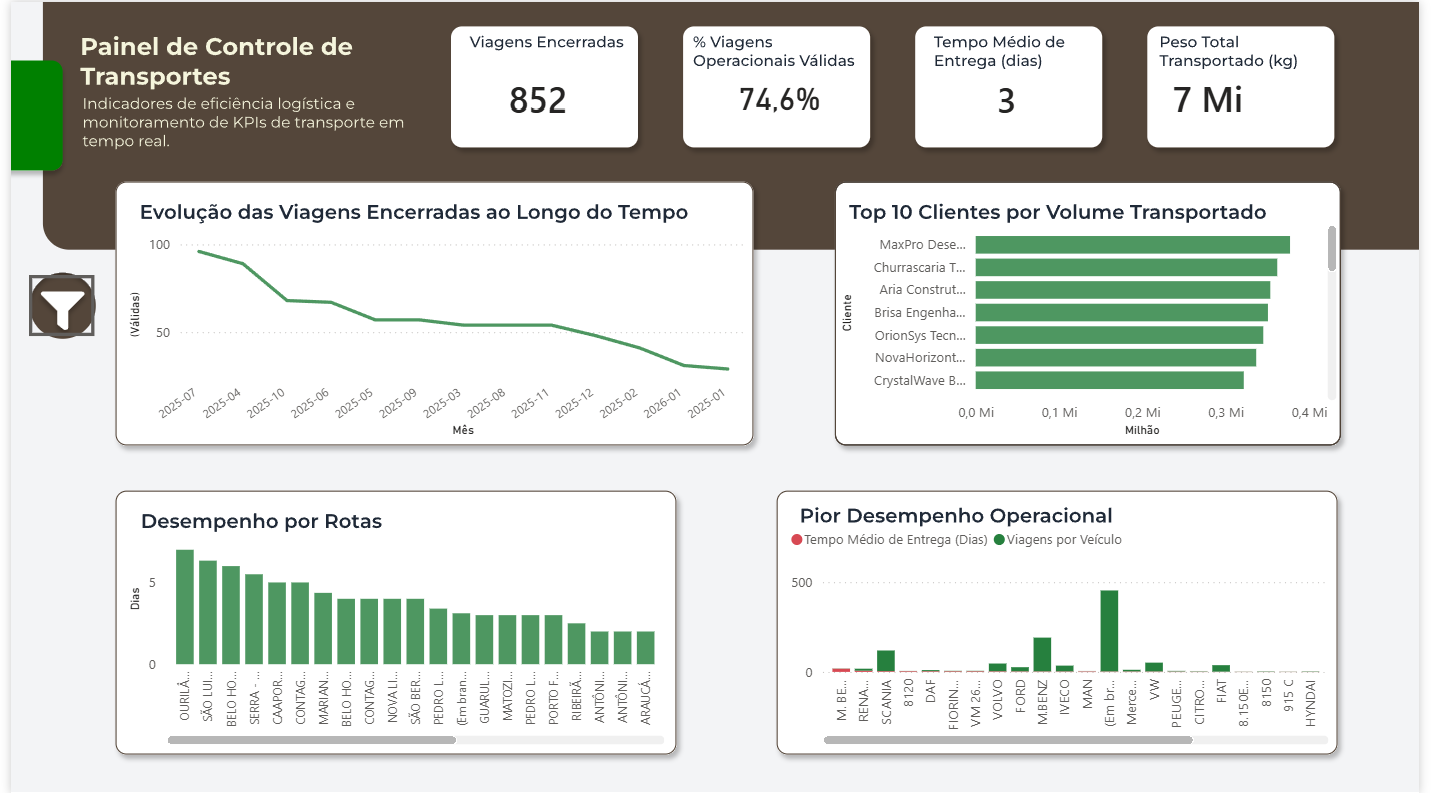

Layout of this report page (visuals, bound fields, positions):
{"tool":"powerbi","page":{"name":"Dashaboard","canvas":[1280,720],"ordinal":1},"visuals":[{"type":"actionButton","box":[16.5,248,59.5,55.5],"z":1000},{"type":"cardVisual","fields":{"Data":["fViagens.Viagens Encerradas"]},"box":[423.8,45,112.5,81.2],"z":2000},{"type":"card","fields":{"Values":["fViagens.Viagens Válidas"]},"box":[618.8,51.2,158.8,70],"z":3000},{"type":"cardVisual","fields":{"Data":["fViagens.Tempo Médio de Entrega (Dias)"]},"box":[867.5,40,103.8,92.5],"z":4000},{"type":"cardVisual","fields":{"Data":["fViagens.Peso Total Transportado"]},"box":[1027.5,33.8,175,103.8],"z":5000},{"type":"lineChart","fields":{"Category":["fViagens.Ano_Mes"],"Y":["fViagens.Viagens Encerradas (Válidas)"]},"box":[102.7,206.4,570,193.6],"z":6000},{"type":"barChart","fields":{"Category":["dCliente.razao_social"],"Y":["fViagens.Peso Total Transportado"]},"box":[750,190,460,210],"z":7000},{"type":"columnChart","fields":{"Category":["dRotas.linha"],"Y":["fViagens.Tempo Médio de Entrega (Dias)"]},"box":[102.7,469.1,496.4,210.9],"z":8000},{"type":"columnChart","fields":{"Y":["fViagens.Tempo Médio de Entrega (Dias)","fViagens.Viagens por Veículo"],"Category":["dVeiculos.marca"]},"box":[703.6,469.1,499.1,210.9],"z":9000}]}

Visuals, with their boxes in screenshot pixels (x1, y1, x2, y2), scaled from the page's 1280x720 canvas onto the 1438x793 screenshot:
actionButton: region(19, 273, 85, 334)
cardVisual - fViagens.Viagens Encerradas: region(476, 50, 602, 139)
card - fViagens.Viagens Válidas: region(695, 56, 874, 133)
cardVisual - fViagens.Tempo Médio de Entrega (Dias): region(975, 44, 1091, 146)
cardVisual - fViagens.Peso Total Transportado: region(1154, 37, 1351, 152)
lineChart - fViagens.Ano_Mes x fViagens.Viagens Encerradas (Válidas): region(115, 227, 756, 441)
barChart - dCliente.razao_social x fViagens.Peso Total Transportado: region(843, 209, 1359, 441)
columnChart - dRotas.linha x fViagens.Tempo Médio de Entrega (Dias): region(115, 517, 673, 749)
columnChart - fViagens.Tempo Médio de Entrega (Dias) x fViagens.Viagens por Veículo: region(790, 517, 1351, 749)
